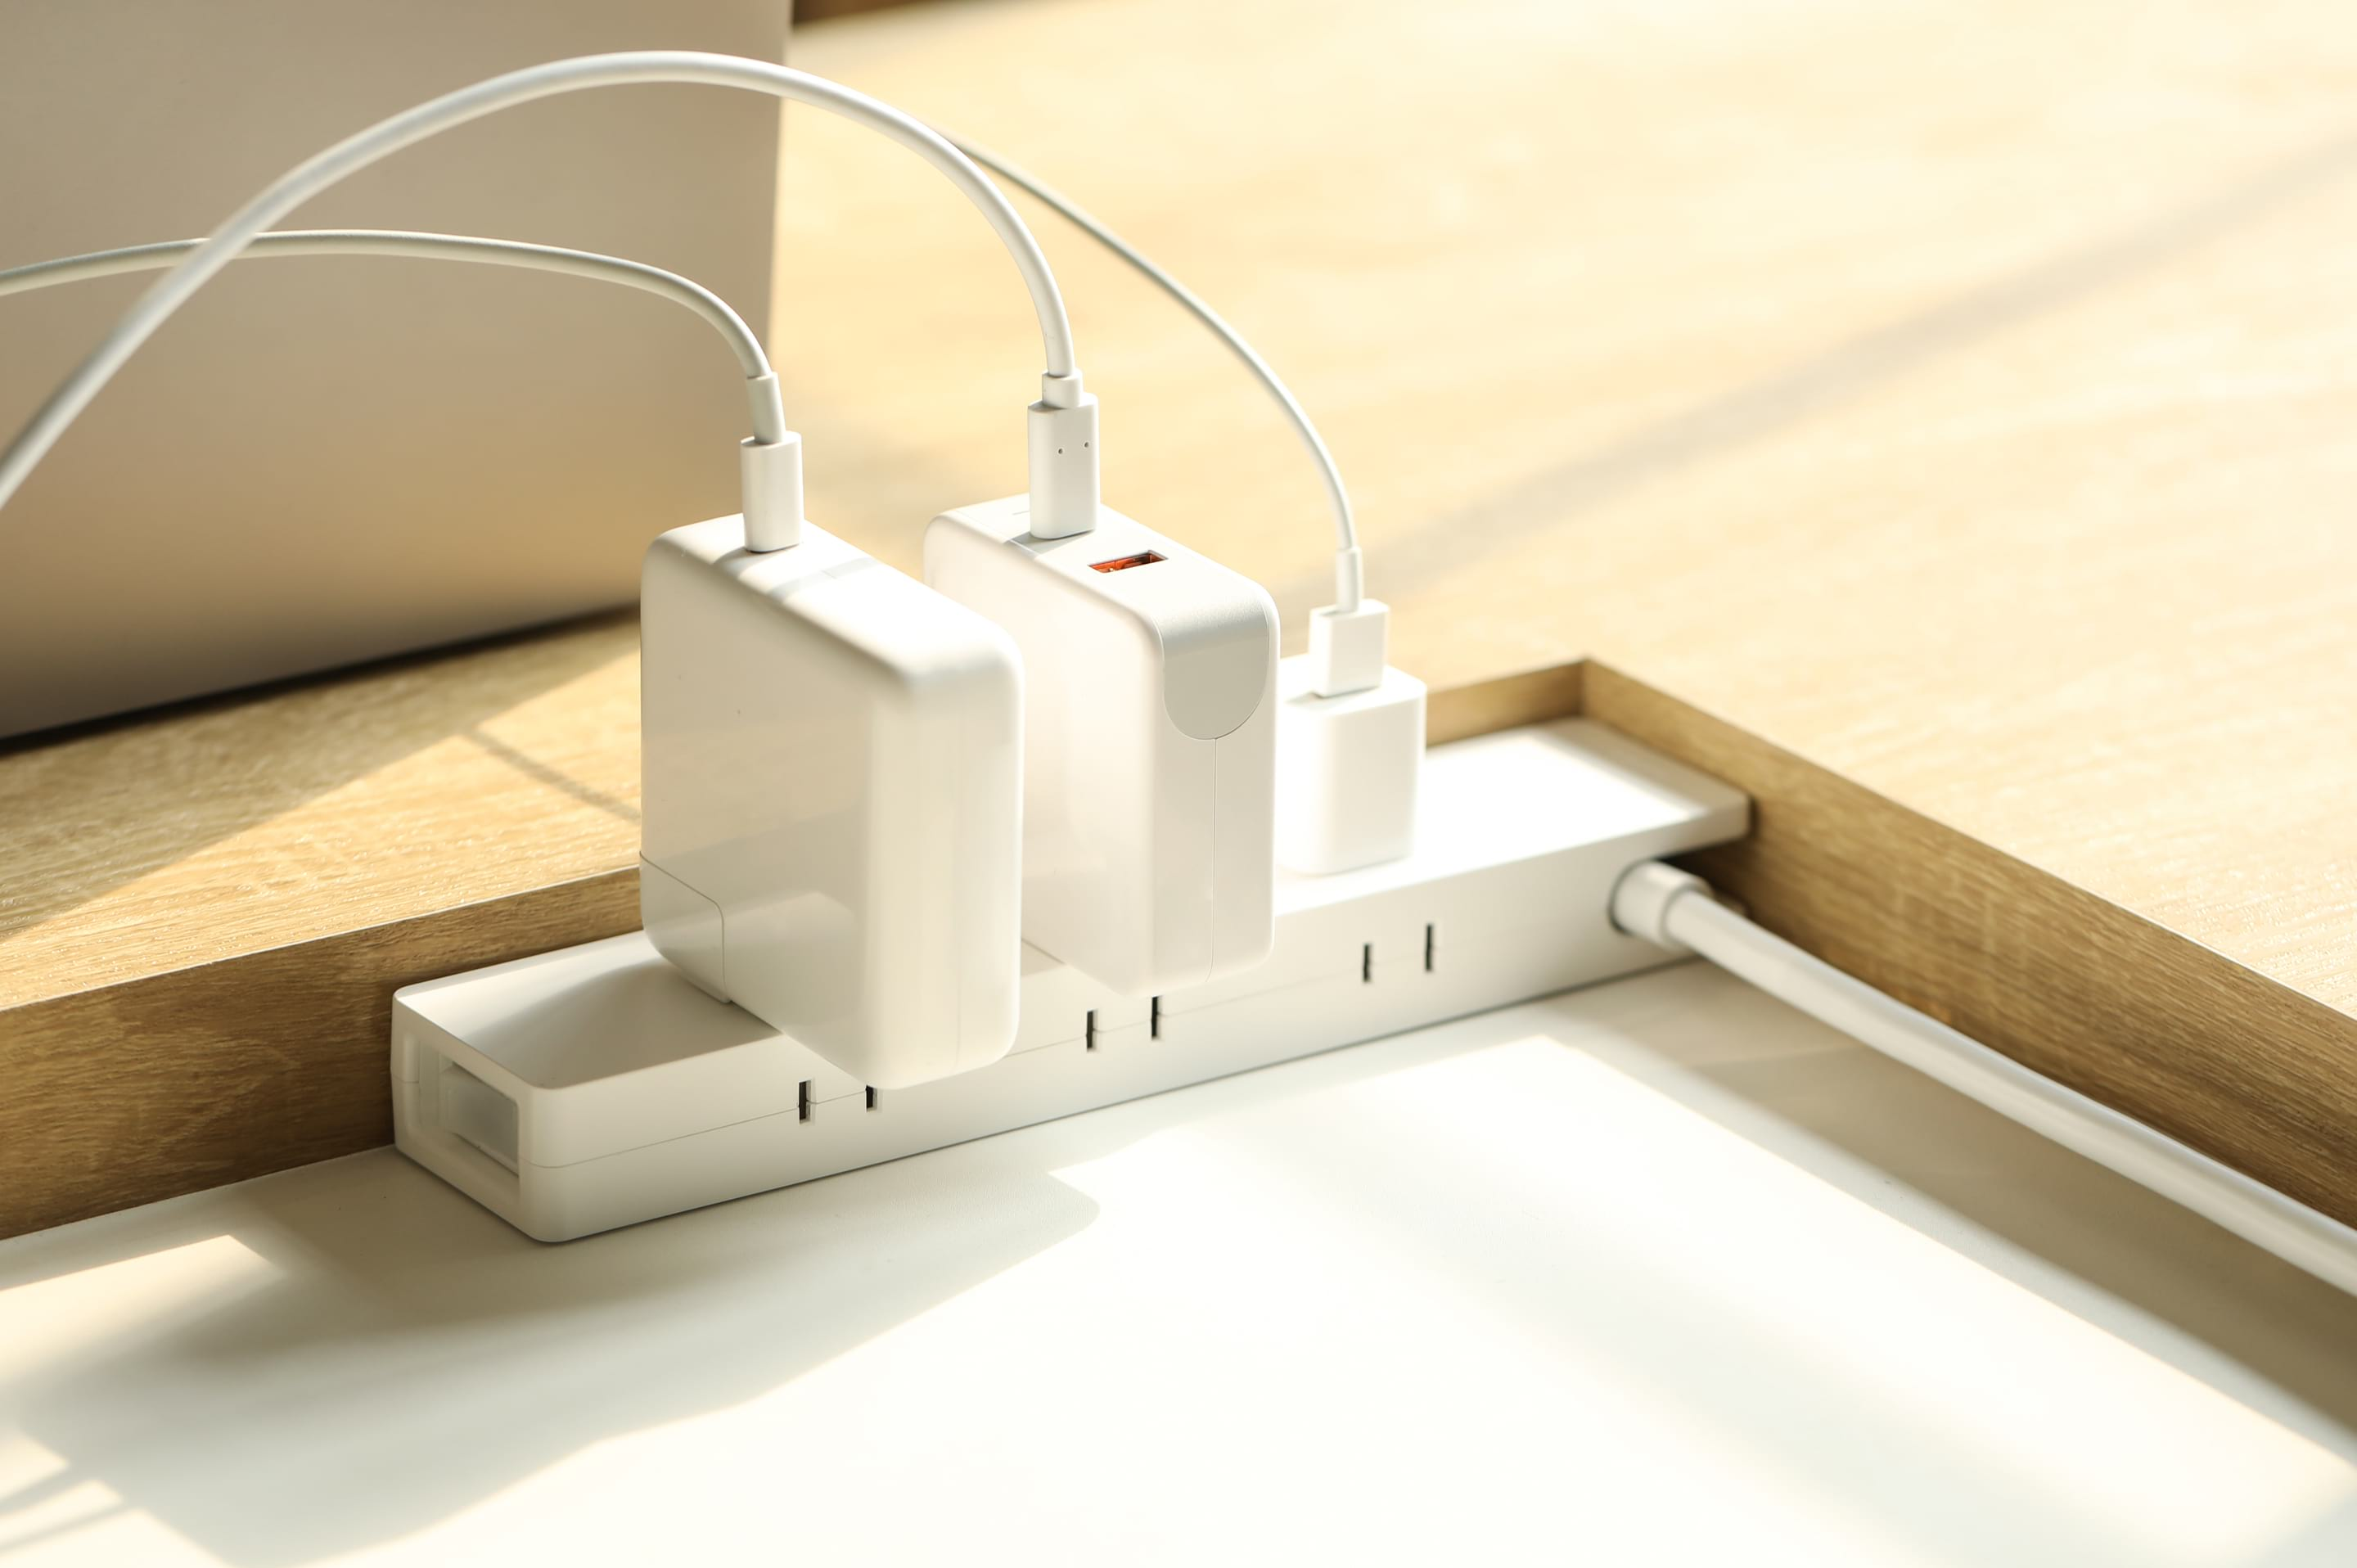socket: (383, 716, 1752, 1246)
